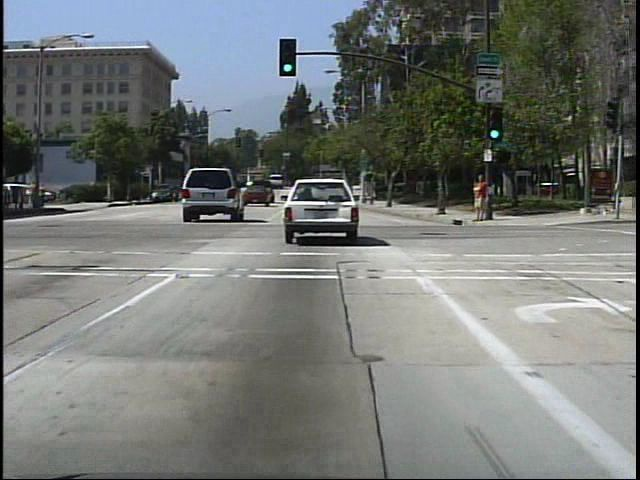person: (468, 171, 491, 226), (30, 179, 41, 212), (38, 182, 50, 210)
